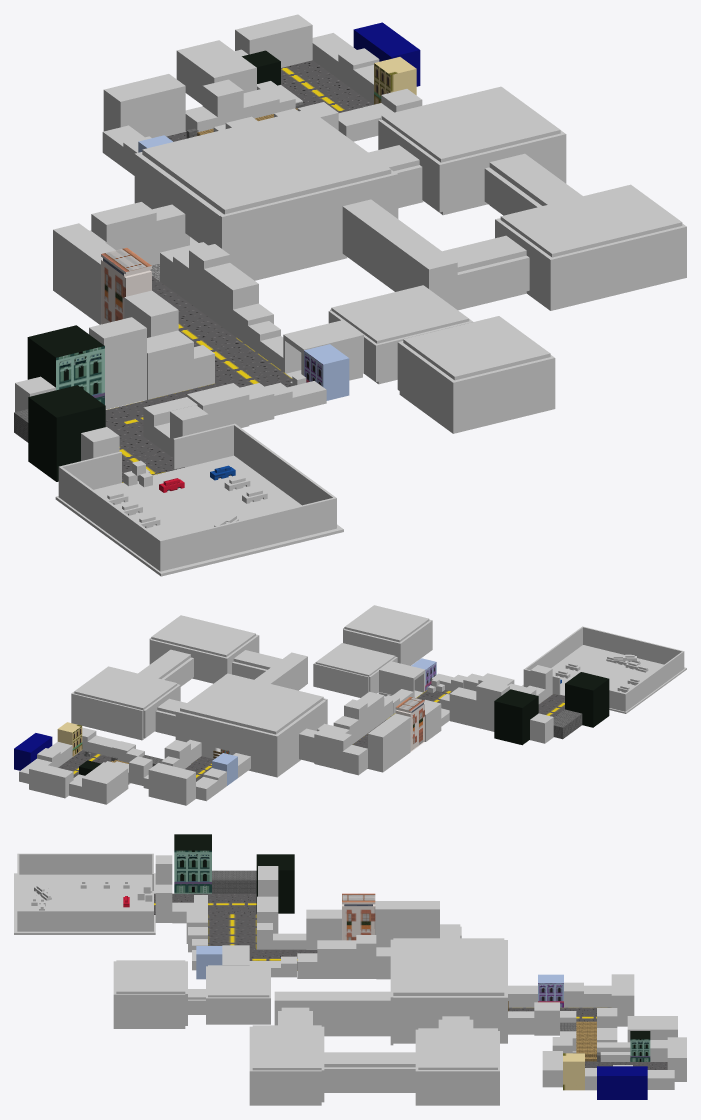
Rendered from Lv1Ver2 new.fbx.
The picture shows the model from 3 angles, top to bottom: view 1: azimuth 30°, elevation 25°; view 2: azimuth 150°, elevation 25°; view 3: azimuth 270°, elevation 25°; orthographic projection. The views are drawn at different scales.
Visible parts, largest first — view 1: Room.017, Room.001, Room.003, Room.005, CarfFoor, Room.002, Wall.002, Mountain.055, Mountain.044, Mountain.014, Mountain.037, Room.015 (+44 smaller); view 2: Room.017, Room.005, Room.001, Room.003, Room.002, CarfFoor, Mountain.044, Mountain.055, Mountain.037, Wall.002, Mountain.014, Mountain.007 (+36 smaller); view 3: Room.017, Room.005, Room.001, Room.003, CarfFoor, Room.002, Wall.003, Wall.001, Mountain.037, Tube.017, Tube.006, Mountain.055 (+40 smaller).
Boxes of the visible parts, x1,y1,x2,y2 form: Room.017: (134,109,395,280); Room.001: (495,184,686,310); Room.003: (397,316,555,433); Room.005: (378,86,566,215); CarfFoor: (55,455,343,576); Room.002: (328,285,472,384); Wall.002: (162,498,334,570); Mountain.055: (28,385,105,481); Mountain.044: (27,325,104,404); Mountain.014: (103,74,185,137); Mountain.037: (53,223,124,324); Room.015: (220,172,398,236); Room.017: (175,673,327,777); Room.005: (71,666,180,740); Room.001: (149,615,259,683); Room.003: (343,605,432,665); Room.002: (313,643,397,697); CarfFoor: (522,645,686,713); Mountain.044: (494,689,538,745); Mountain.055: (565,672,609,727); Mountain.037: (368,713,410,772); Wall.002: (583,627,682,664); Mountain.014: (148,763,195,805); Mountain.007: (82,762,128,804); Room.017: (393,938,507,1043); Room.005: (415,1028,499,1105); Room.001: (249,1025,324,1105); Room.003: (113,960,187,1028); CarfFoor: (14,873,155,934); Room.002: (206,965,270,1024); Wall.003: (17,910,153,931); Wall.001: (17,853,153,874); Mountain.037: (375,901,439,947); Tube.017: (309,1004,390,1036); Tube.006: (324,1067,415,1091); Mountain.055: (174,834,211,893).
Bounding box in the file's own units: 14560 × 1529 × 17954.
Materials: 15 (13 with a texture image).
